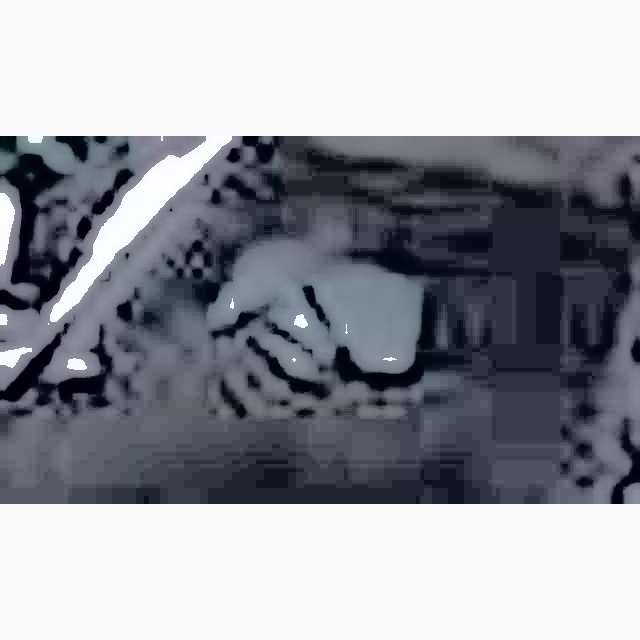pakai: (184, 206, 447, 417)
